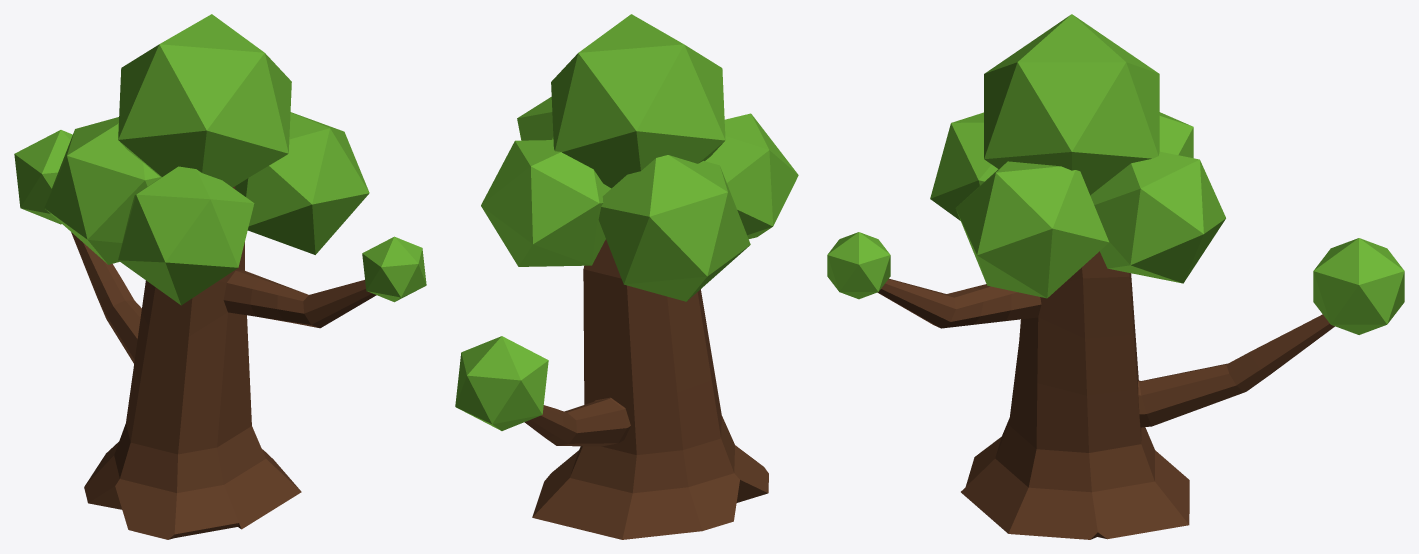
Rendered from Tree4.glb.
The picture shows the model from 3 angles, left to right: view 1: azimuth 30°, elevation 25°; view 2: azimuth 150°, elevation 25°; view 3: azimuth 270°, elevation 25°; orthographic projection. The views are drawn at different scales.
Parts seen in each view (by area): view 1: Tree9; view 2: Tree9; view 3: Tree9.
Boxes of the visible parts, x1,y1,x2,y2 form: Tree9: (14, 14, 426, 539); Tree9: (455, 14, 798, 539); Tree9: (827, 14, 1404, 539).
Size of the model in its own units: 3.37 by 5.95 by 6.71.
